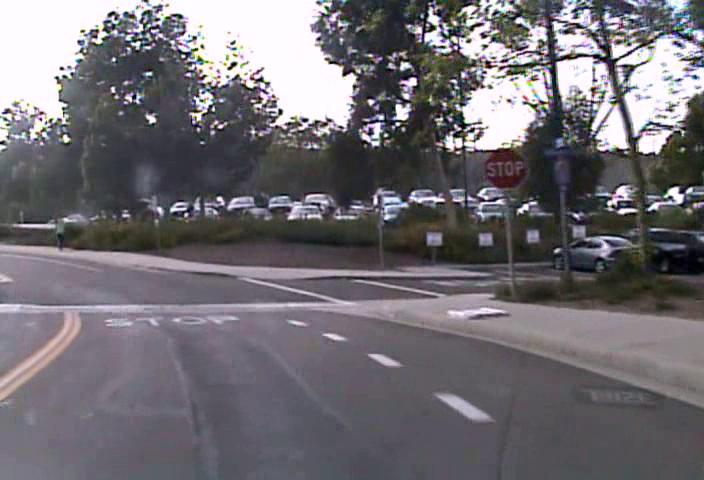stop: (483, 146, 527, 190)
